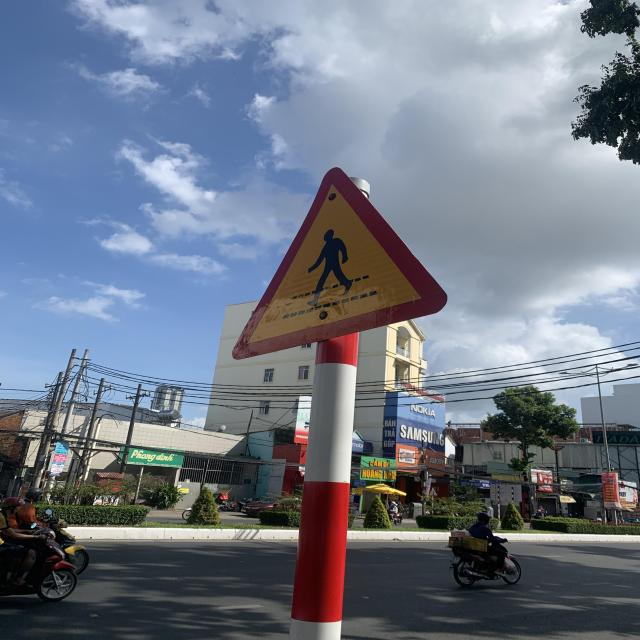Duong_Nguoi_Di_Bo_Sang_Ngang: (232, 167, 450, 361)
